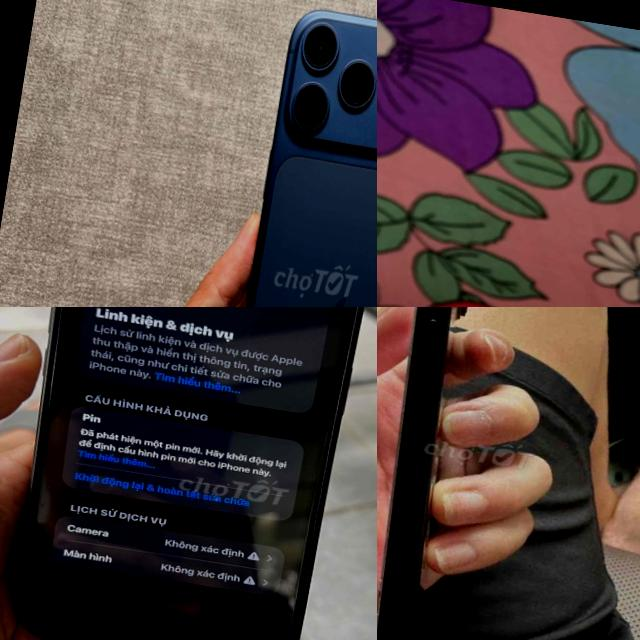gen_12_13: (0, 307, 377, 640)
gen_14: (377, 307, 500, 640)
gen_17: (210, 0, 377, 307)
